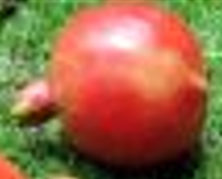pomegranate_A: (11, 1, 211, 169)
